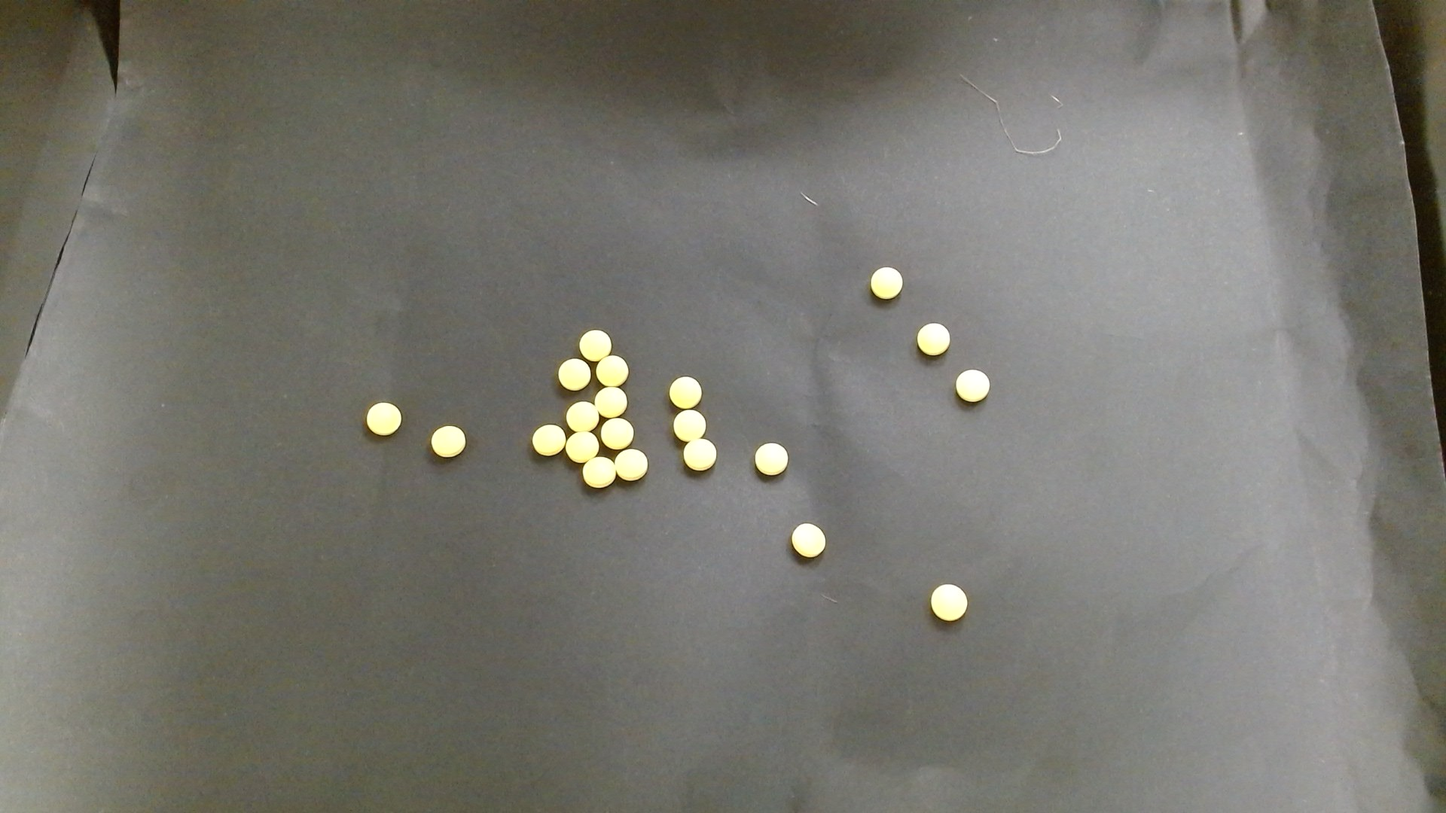Circle: (929, 583, 967, 621), (365, 401, 401, 436), (790, 522, 826, 557), (954, 368, 990, 402), (754, 442, 789, 476), (429, 425, 465, 458), (916, 323, 950, 356), (578, 329, 612, 362), (668, 375, 702, 408), (869, 266, 902, 299), (557, 358, 590, 391), (532, 424, 565, 456), (600, 417, 633, 449), (673, 410, 706, 442), (683, 439, 716, 471), (566, 400, 598, 433), (615, 449, 648, 481), (595, 355, 628, 387), (566, 431, 598, 463), (583, 456, 615, 488), (595, 386, 627, 417)
